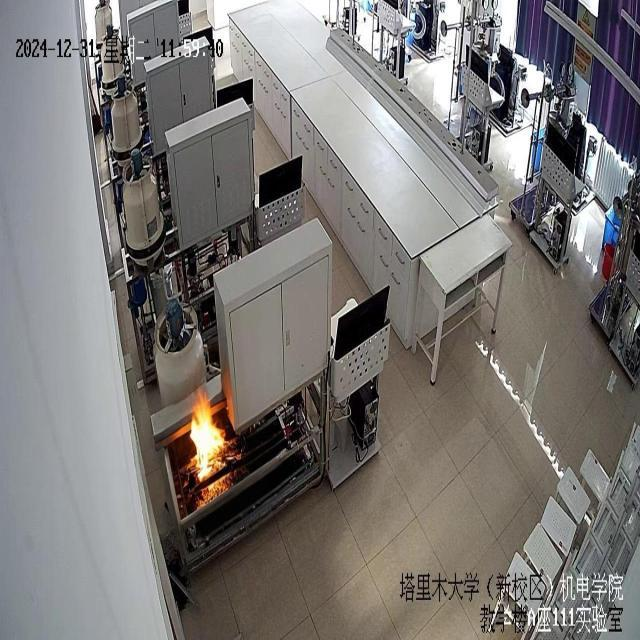smoke: (187, 391, 226, 484)
